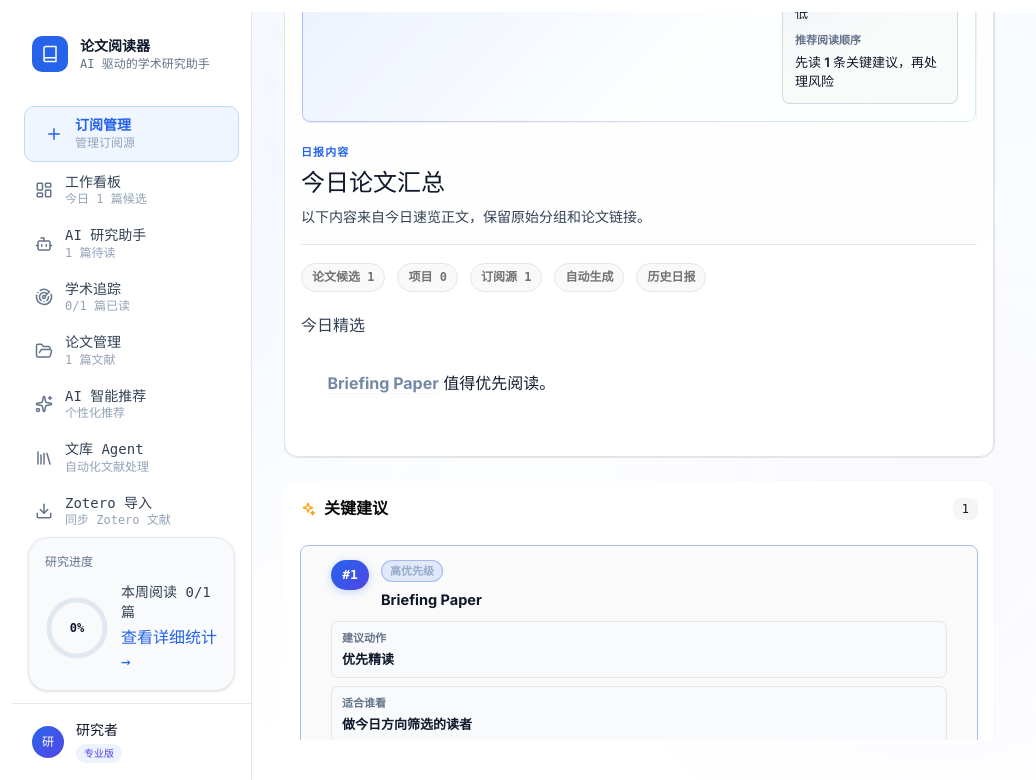
Test case: 每日速览中的论文链接会跳转到论文管理详情
This screenshot has width=1036, height=780.
(page scrolled)
Expected: the element with class "briefing-summary" is shown, x1=301 y1=315 x2=555 y2=394
Click the link "Briefing Paper". click: (383, 384)
box: x1=327 y1=374 x2=439 y2=394
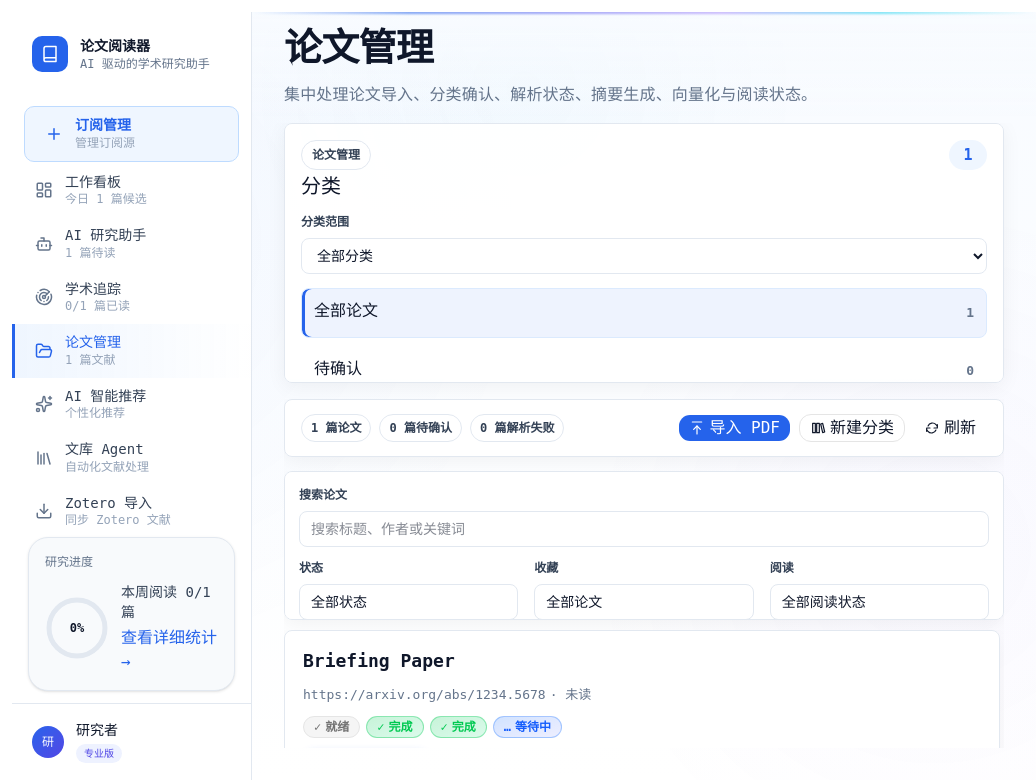
Expected: the heading "论文管理" is shown, x1=284 y1=20 x2=433 y2=77
